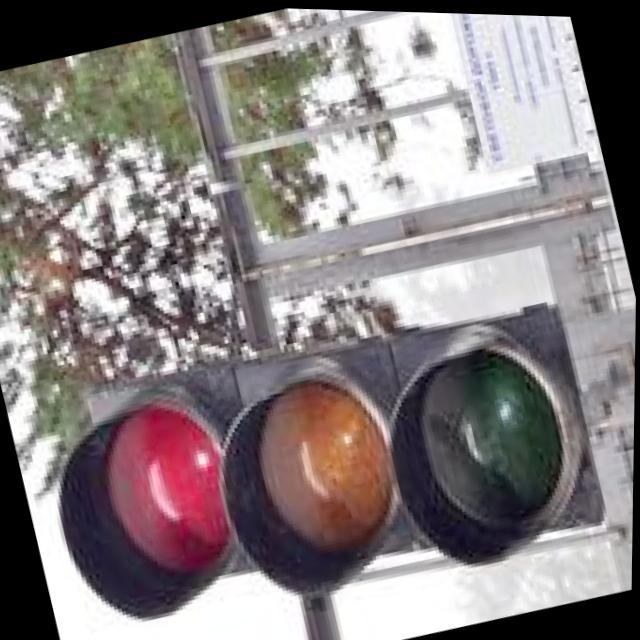green_light: (356, 267, 627, 634)
red_light: (36, 354, 264, 611)
yellow_light: (175, 311, 420, 600)
